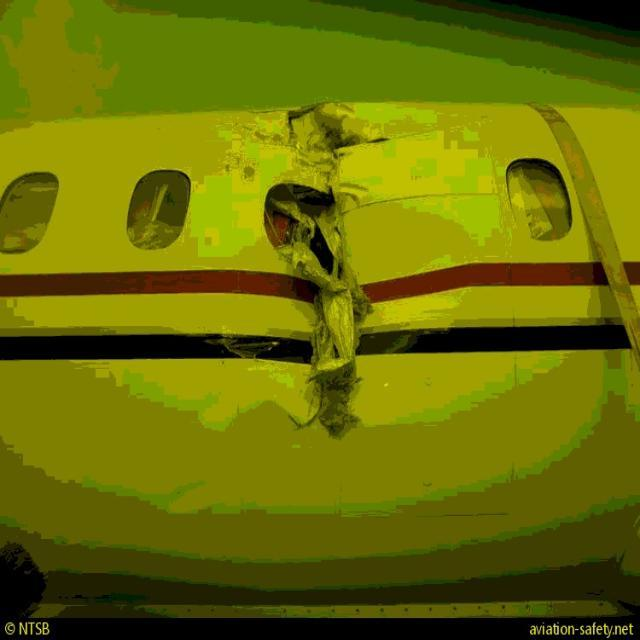crack: (278, 101, 393, 442)
